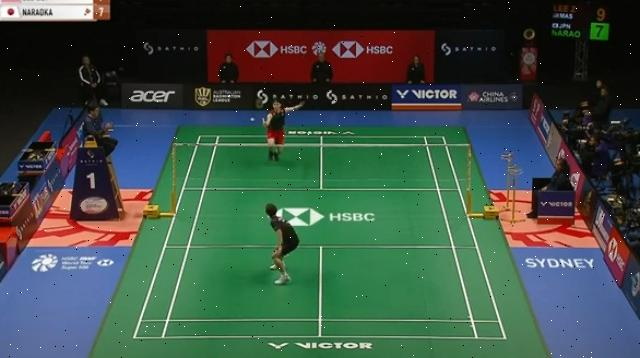Shuttlecock: (248, 114, 256, 126)
